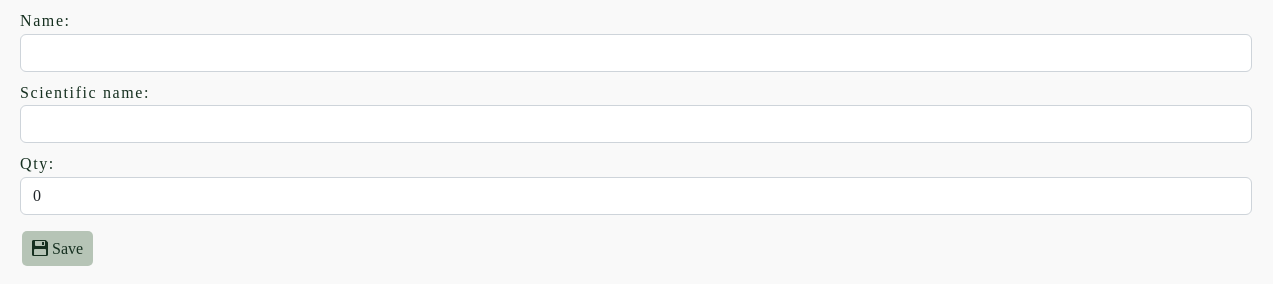
Test case: resets input values after submit
Type "Lily" into the field labelled "Name:" at (636, 53), box [20,34,1252,72]
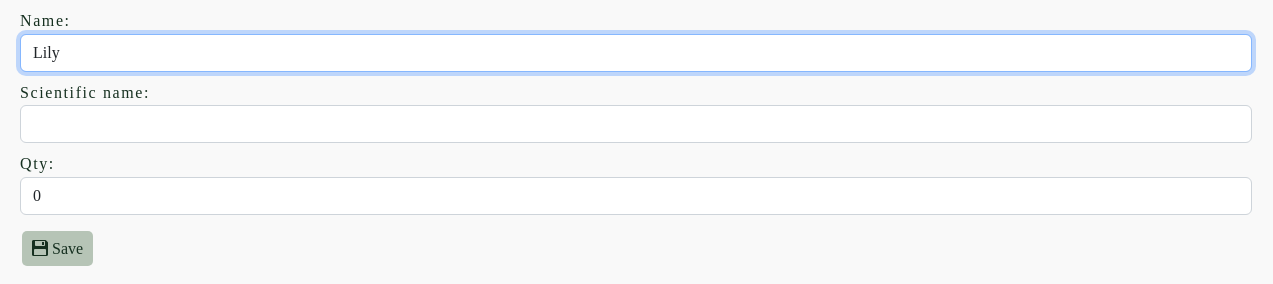
Type "Lilium" into the field labelled "Scientific name:" at (636, 124), box [20,105,1252,143]
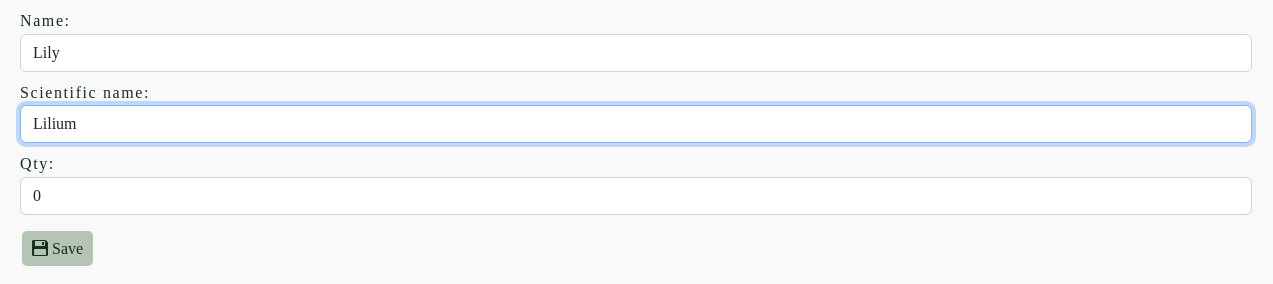
Type "7" into the number field labelled "Qty:" at (636, 196), box [20,177,1252,215]
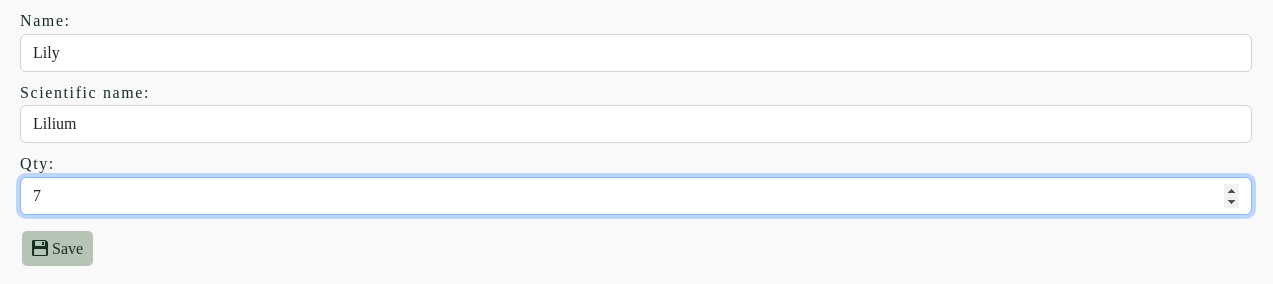
Click the button "Save" at (58, 249), box [22,231,93,266]
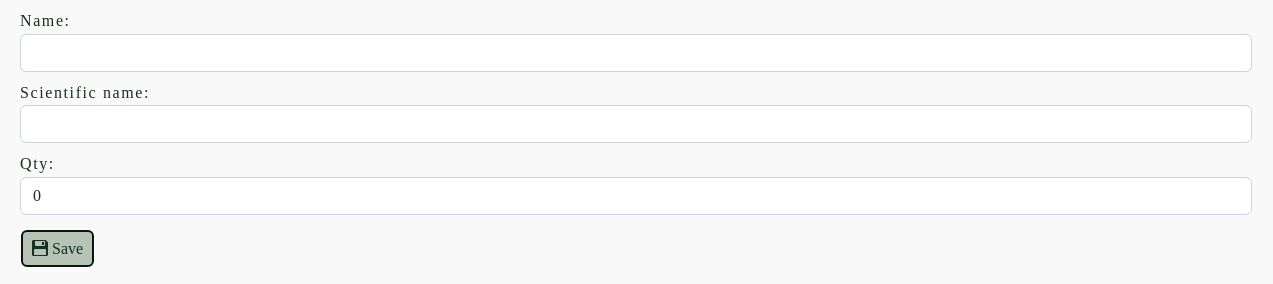
expect the field labelled "Name:" is empty: met, box [20,34,1252,72]
expect the field labelled "Scientific name:" is empty: met, box [20,105,1252,143]
expect the number field labelled "Qty:" holds "0": met, box [20,177,1252,215]
